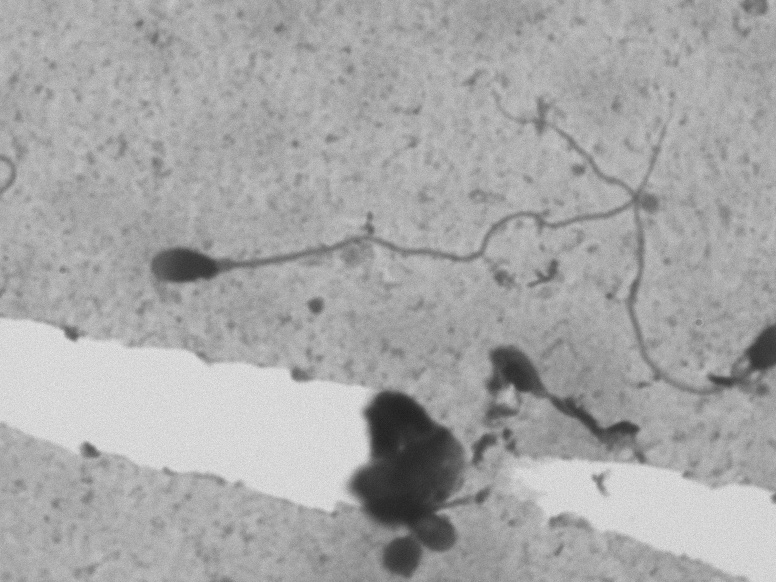Normal: (89, 97, 712, 296)
